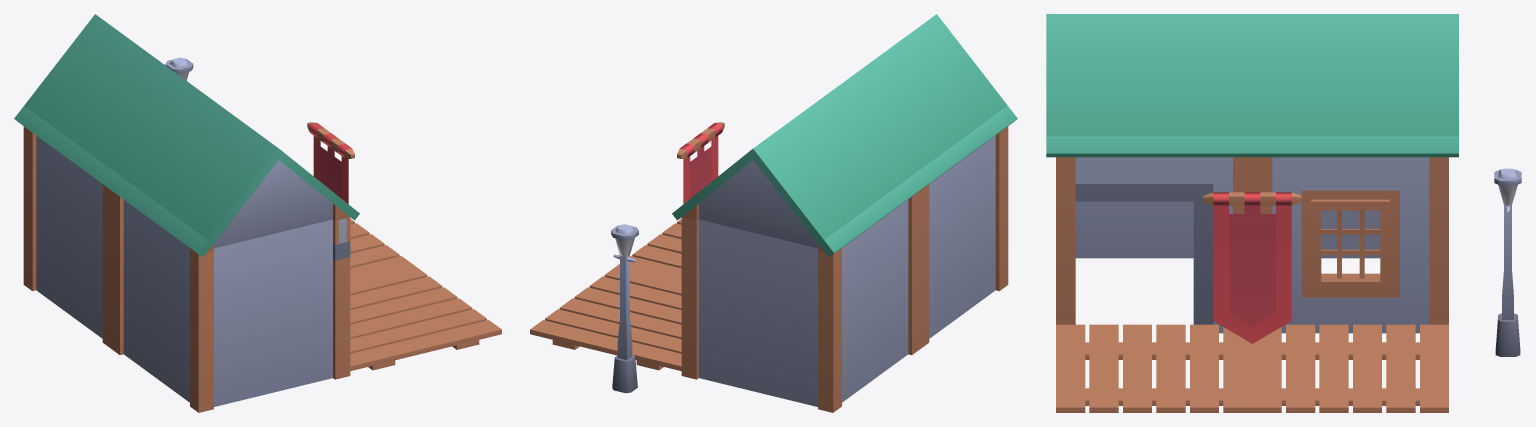
The model's file is station.glb.
The picture shows the model from 3 angles, left to right: view 1: azimuth 30°, elevation 25°; view 2: azimuth 150°, elevation 25°; view 3: azimuth 270°, elevation 25°; orthographic projection. The views are drawn at different scales.
Visible parts, largest first — view 1: station.001; view 2: station.001; view 3: station.001.
Boxes of the visible parts, x1=… form: station.001: x1=14, y1=14, x2=501, y2=412; station.001: x1=530, y1=14, x2=1017, y2=412; station.001: x1=1046, y1=14, x2=1521, y2=412.
Size of the model in its own units: 2.04 by 1.57 by 2.42.
12 materials, 12 textured.
